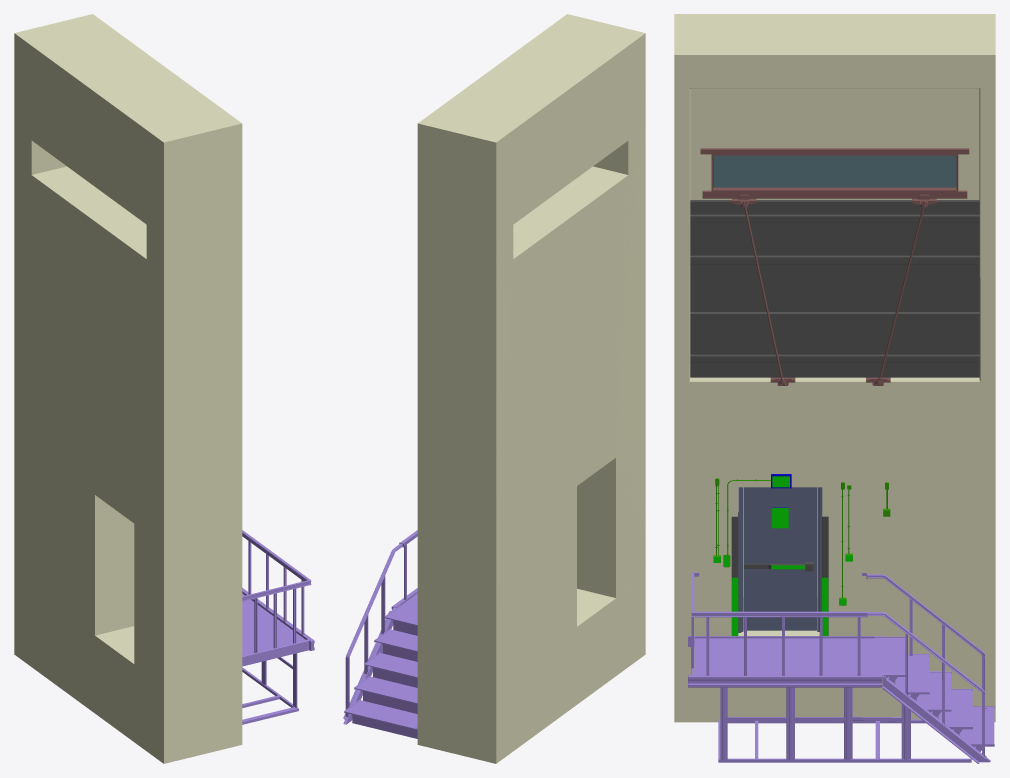
File: wall_door_stair_GRP.fbx
3 views of the same model, side by side, from view 1: azimuth 30°, elevation 25°; view 2: azimuth 150°, elevation 25°; view 3: azimuth 270°, elevation 25° (orthographic). The views are drawn at different scales.
Visible parts, largest first — view 1: main_Wall, wall_foundation, platform_floor_02, railing_poles_02, stairs_cage_02, platform_sidings_03, railing_platforms_02; view 2: main_Wall, wall_foundation, stairs_06, inner_stairs_02, railing_stairs_02, stairs_02, stairs_sidings_02, railing_stairs_poles_02; view 3: main_Wall, wall_protection, wall_foundation, exit_door_02, window_glass, platform_floor_02, window_pane, stairs_cage_02, stairs_06, platform_sidings_03, decal_wall_door_stair, exit_door_frame_02 (+10 smaller).
Boxes of the visible parts, x1,y1,x2,y2 form: main_Wall: (14,14,242,685); wall_foundation: (14,577,242,763); platform_floor_02: (242,593,305,655); railing_poles_02: (248,541,304,653); stairs_cage_02: (242,653,298,724); platform_sidings_03: (242,588,314,666); railing_platforms_02: (242,530,311,601); main_Wall: (417,14,645,685); wall_foundation: (417,577,645,763); stairs_06: (345,606,417,728); inner_stairs_02: (352,620,417,738); railing_stairs_02: (345,542,417,725); stairs_02: (344,605,417,730); stairs_sidings_02: (343,607,395,724); railing_stairs_poles_02: (363,576,385,676); main_Wall: (674,14,995,638); wall_protection: (690,200,979,377); wall_foundation: (674,597,995,722); exit_door_02: (743,487,816,630); window_glass: (713,155,956,187); platform_floor_02: (695,638,874,674); window_pane: (700,148,969,198); stairs_cage_02: (718,687,971,762); stairs_06: (874,637,993,743); platform_sidings_03: (688,636,882,687); decal_wall_door_stair: (714,476,852,635); exit_door_frame_02: (738,487,822,632).
Size of the model in its own units: 244 by 917 by 400.
